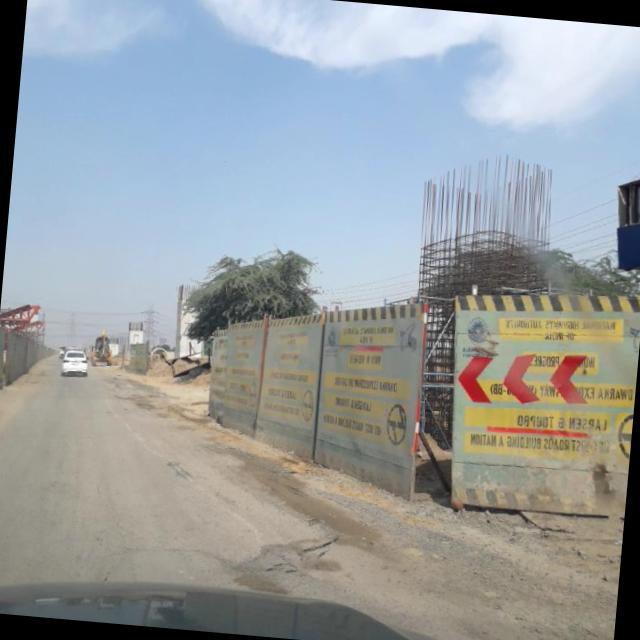pothole: (257, 525, 345, 599), (384, 522, 468, 588)
